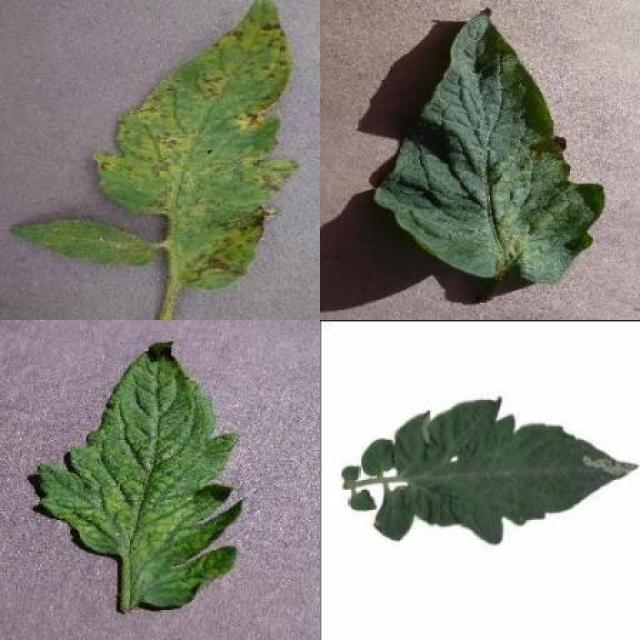Leaf Miner: (391, 397, 640, 550)
Mosaic Virus: (38, 339, 245, 610)
Septoria: (93, 1, 298, 290)
Spider Mites: (374, 5, 606, 285)
